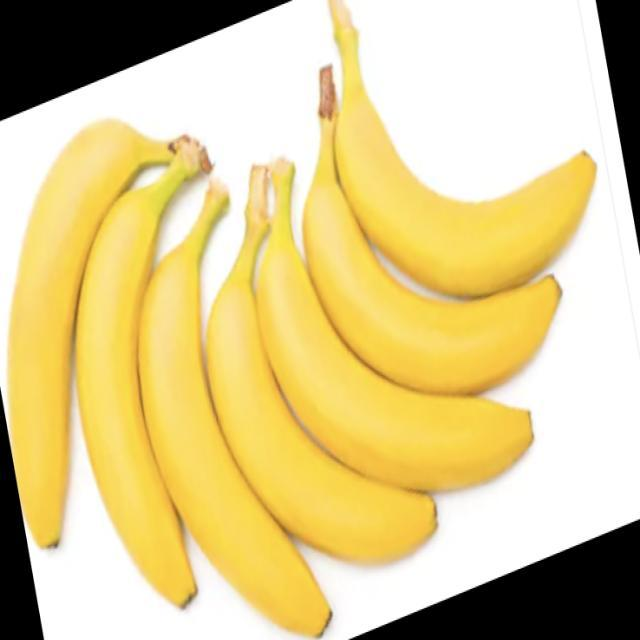Banana: (253, 155, 534, 493), (204, 161, 438, 564), (18, 112, 204, 613), (300, 63, 563, 396), (325, 0, 597, 298)
